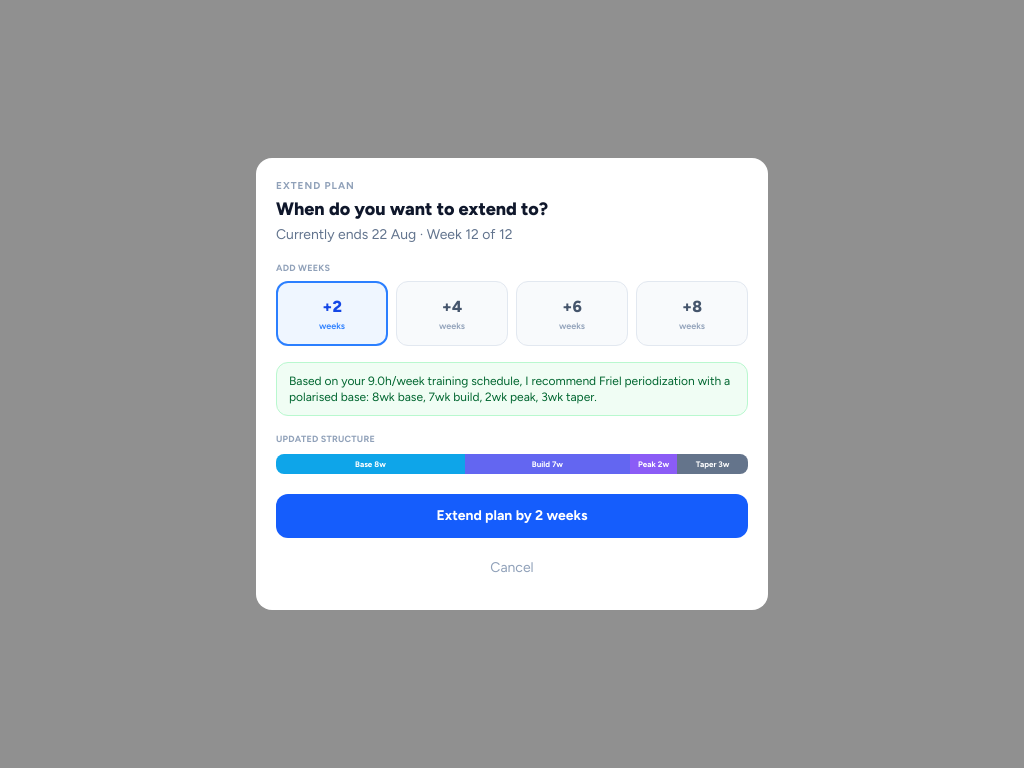
Test: ExtendPlanModal — job submission and polling › shows an error when job submission fails
This screenshot has width=1024, height=768.
Click the button "Extend plan by 2 weeks" at x=512, y=516, box [276, 494, 748, 538]
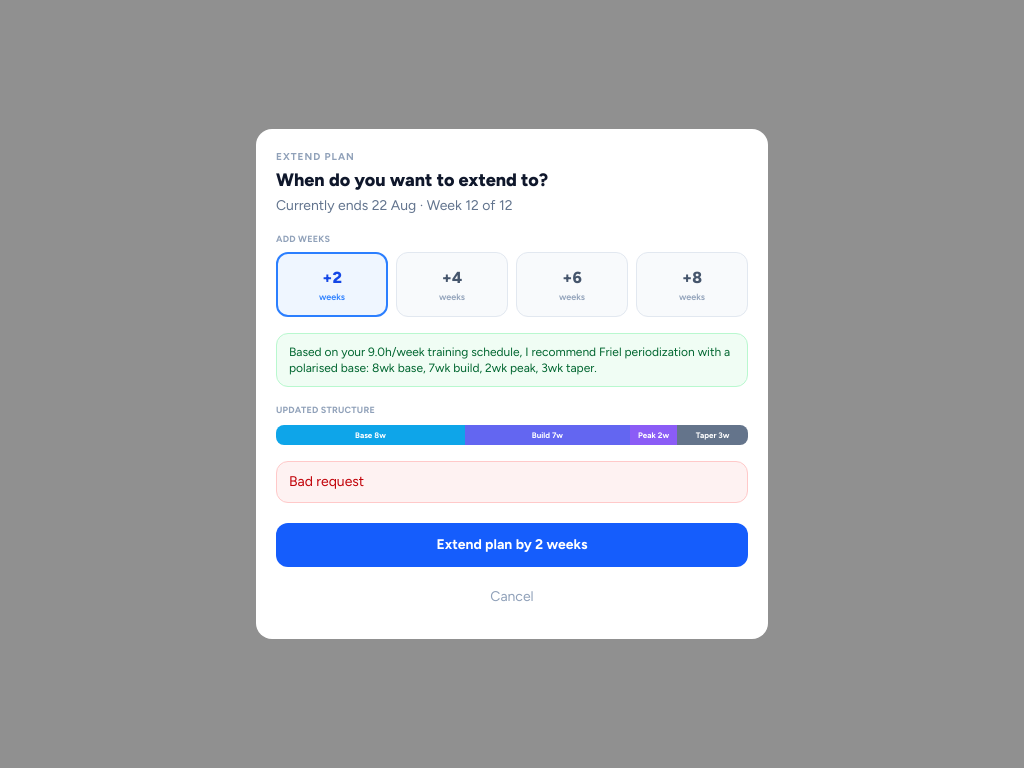
Expected: the text "Bad request" is shown, [289, 473, 364, 490]
